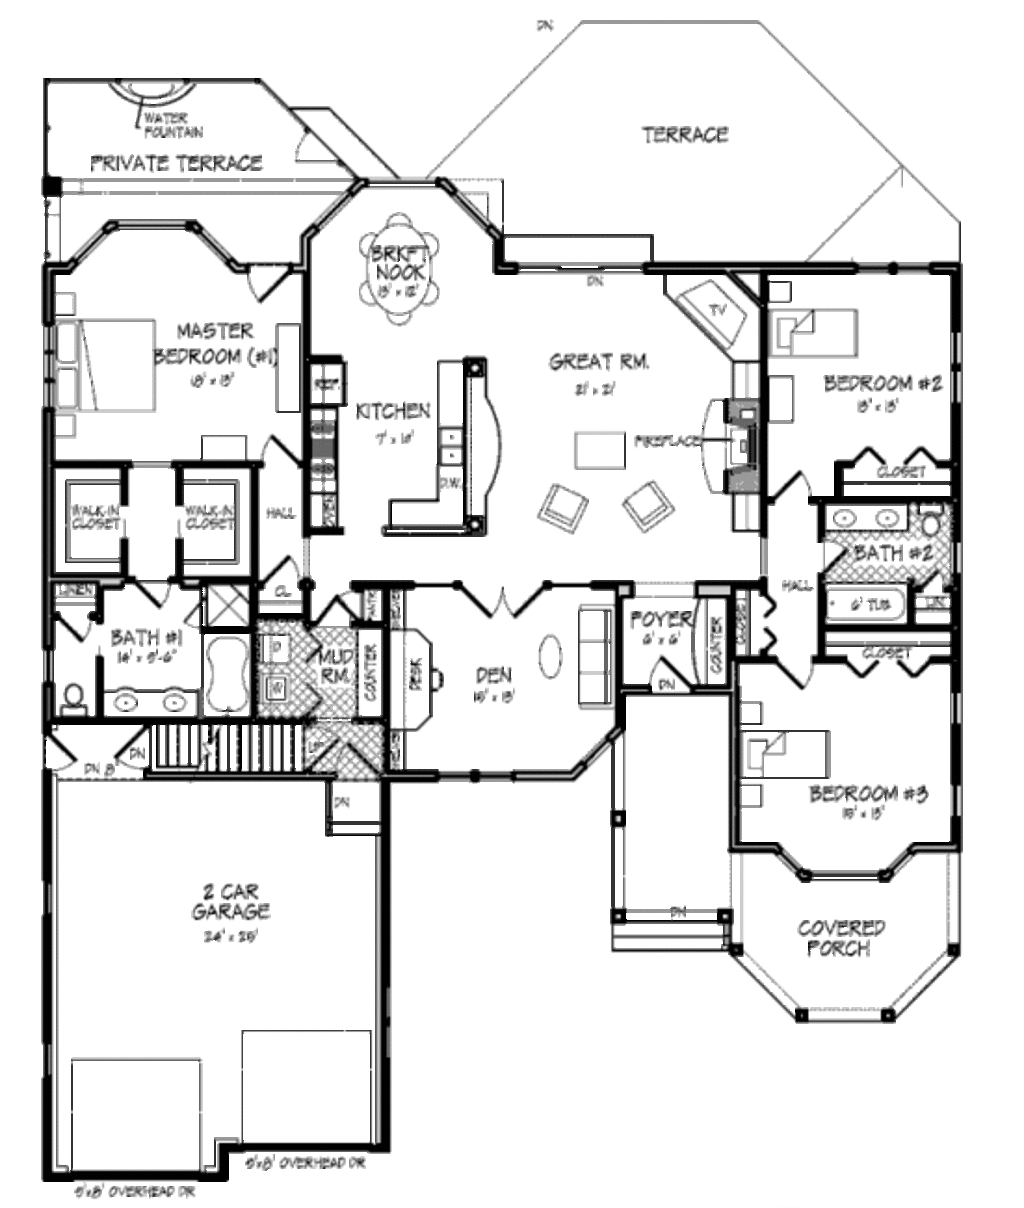bed: (53, 318, 163, 414), (768, 305, 863, 367), (741, 728, 834, 786)
door: (234, 264, 302, 309), (773, 643, 816, 691), (112, 732, 153, 775), (646, 655, 691, 696), (46, 732, 81, 778)
kitchen_bar: (384, 352, 505, 546)
large_sink: (50, 683, 95, 724), (912, 502, 952, 534)
large_sofa: (569, 599, 619, 719)
small_sink: (105, 681, 198, 719), (814, 501, 908, 534)
small_sofa: (534, 483, 596, 538), (614, 476, 676, 528)
stairs: (149, 720, 309, 775)
tub: (825, 584, 911, 628)
windows: (105, 213, 200, 238)
